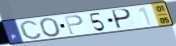1: (139, 7, 153, 26)
5: (88, 11, 107, 32)
C: (18, 19, 44, 40)
O: (38, 17, 62, 38)
P: (63, 14, 85, 36), (112, 8, 134, 30)
